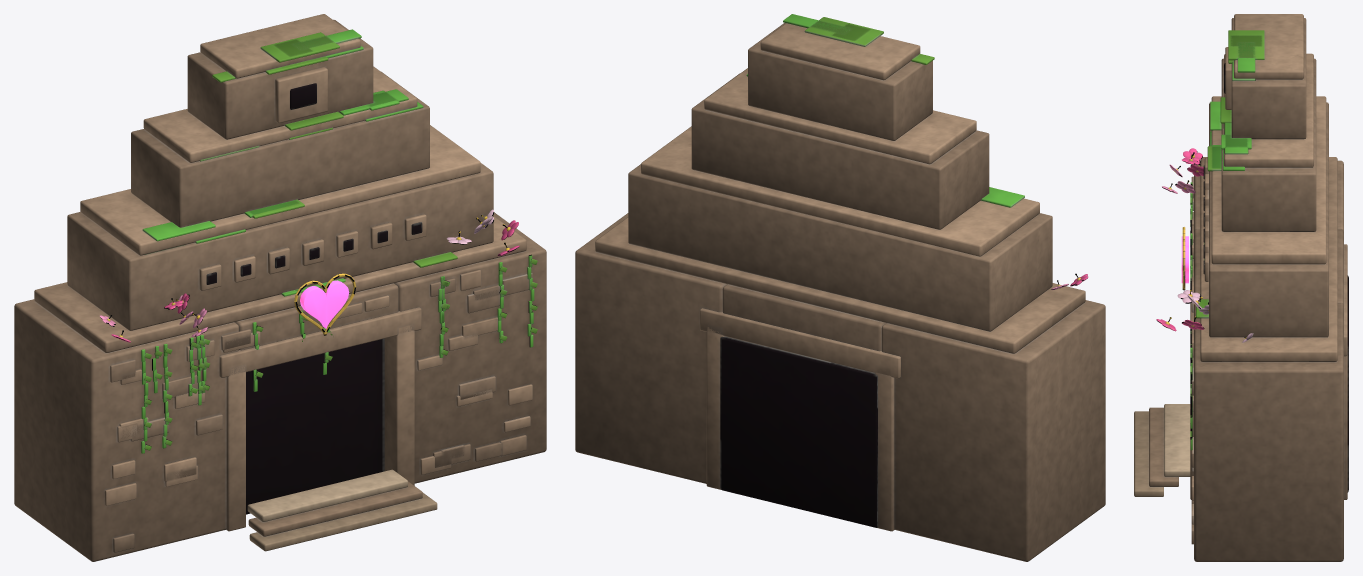
File: en_heart_temple_gate.glb
The picture shows the model from 3 angles, left to right: view 1: azimuth 30°, elevation 25°; view 2: azimuth 150°, elevation 25°; view 3: azimuth 270°, elevation 25°; orthographic projection. The views are drawn at different scales.
Visible parts, largest first — view 1: en_heart_temple_gate; view 2: en_heart_temple_gate; view 3: en_heart_temple_gate.
Boxes of the visible parts, x1,y1,x2,y2 form: en_heart_temple_gate: (14, 14, 546, 561); en_heart_temple_gate: (575, 14, 1105, 561); en_heart_temple_gate: (1134, 14, 1348, 561).
Bounding box in the file's own units: 20 × 18.43 × 8.6.
Materials: 13 (13 with a texture image).
